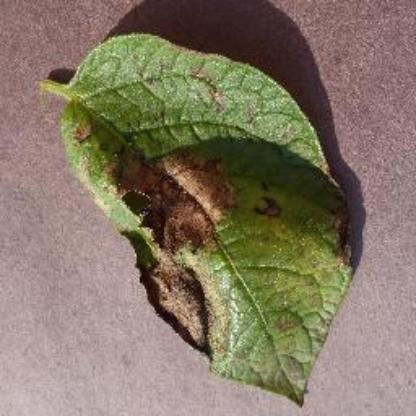Late-Blight: (25, 19, 357, 408)
